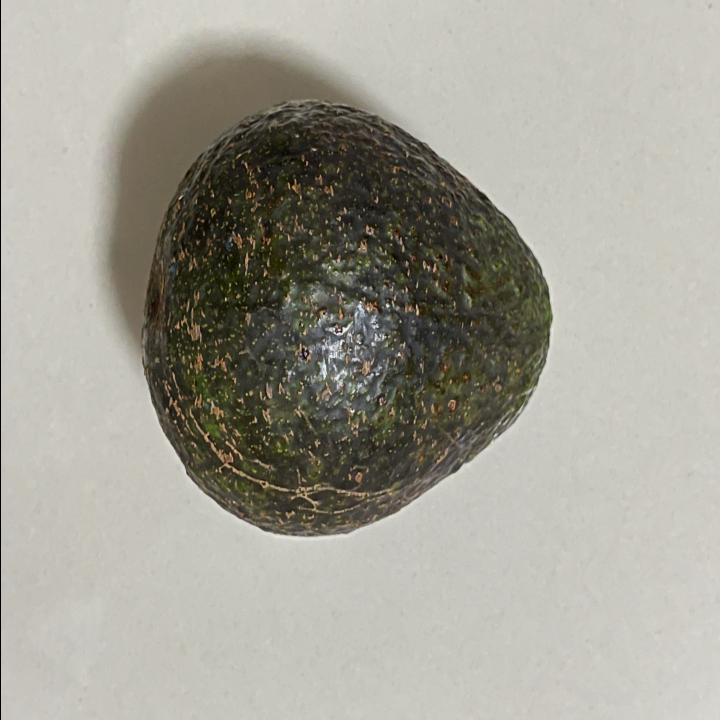Level1: (126, 93, 570, 560)
